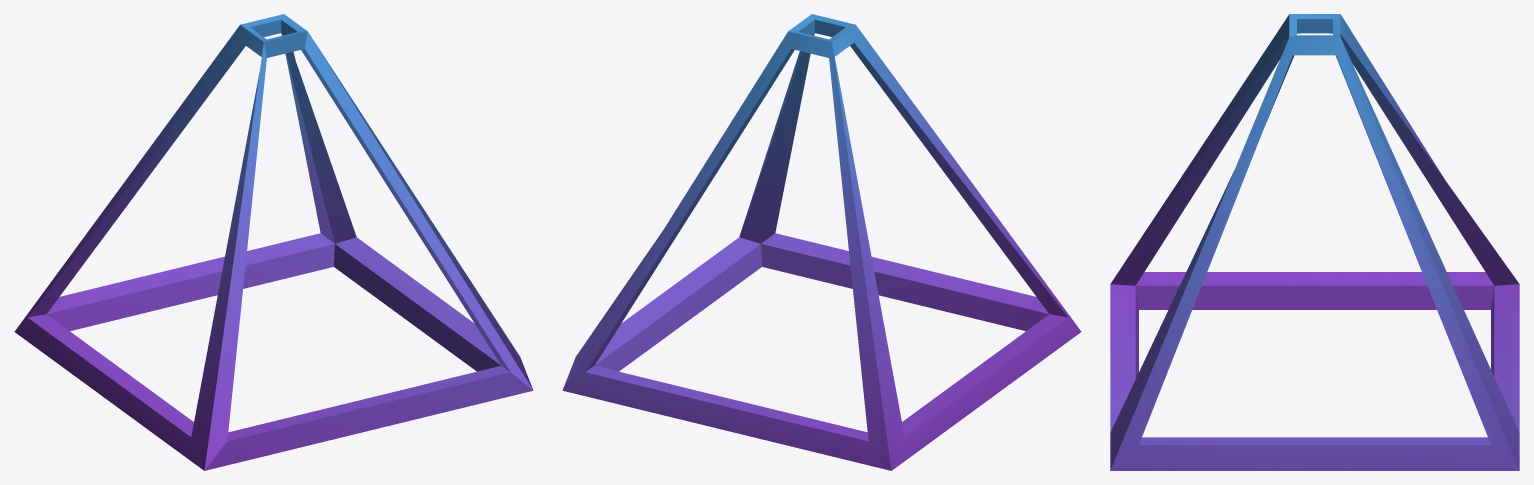
The model's file is POL0110030.fbx.
3 renders of one model, left to right at view 1: azimuth 30°, elevation 25°; view 2: azimuth 150°, elevation 25°; view 3: azimuth 270°, elevation 25°, orthographic. The views are drawn at different scales.
Parts seen in each view (by area): view 1: smPOL0110030; view 2: smPOL0110030; view 3: smPOL0110030.
Boxes of the visible parts, x1,y1,x2,y2 form: smPOL0110030: (14, 14, 533, 470); smPOL0110030: (562, 14, 1081, 470); smPOL0110030: (1110, 14, 1519, 470).
Bounding box in the file's own units: 268 × 259 × 268.
1 material, 1 textured.
